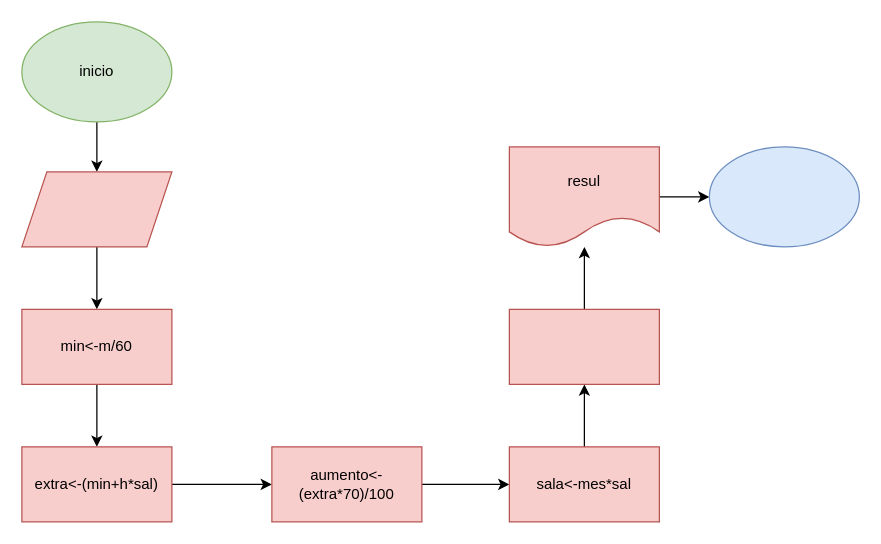
This 881x544 diagram has some shape labels left out. The centre of each missing label's shape, as x and y in pixels:
"fim" goes at [783,196].
"h,m,sal,mes" goes at [96,209].
"resul<- almento+sala" goes at [583,346].
